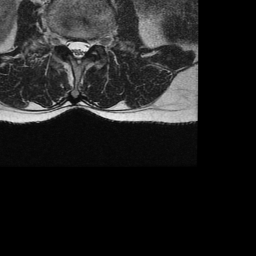CCS_normal: (73, 32, 81, 66)
LFS_stenosis: (90, 32, 99, 54)
LLS_normal: (81, 33, 90, 61)
RFS_normal: (57, 26, 66, 52)
RLS_normal: (66, 34, 73, 60)
